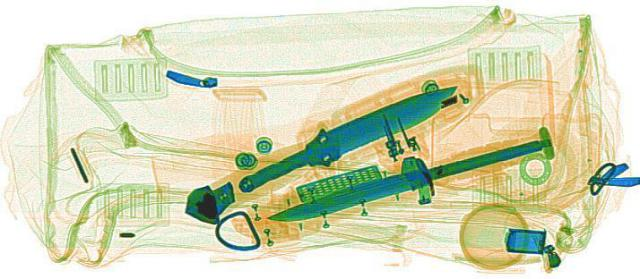Knife: (235, 115, 591, 236), (202, 72, 486, 199)
